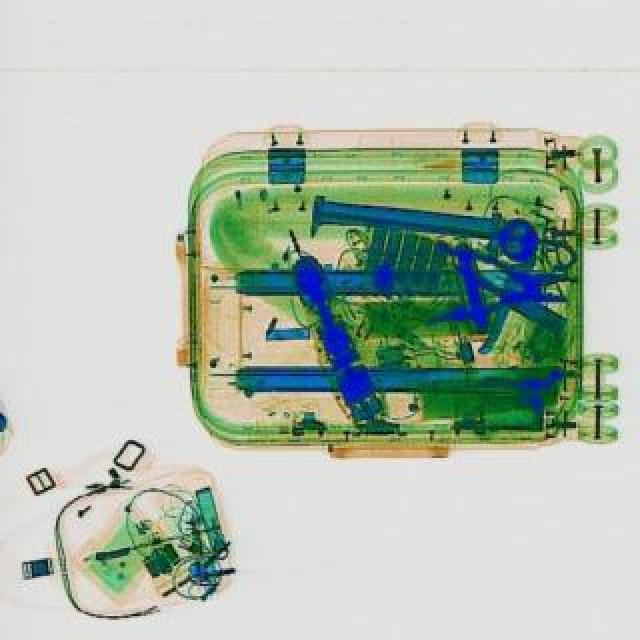wrench: (426, 240, 570, 326)
